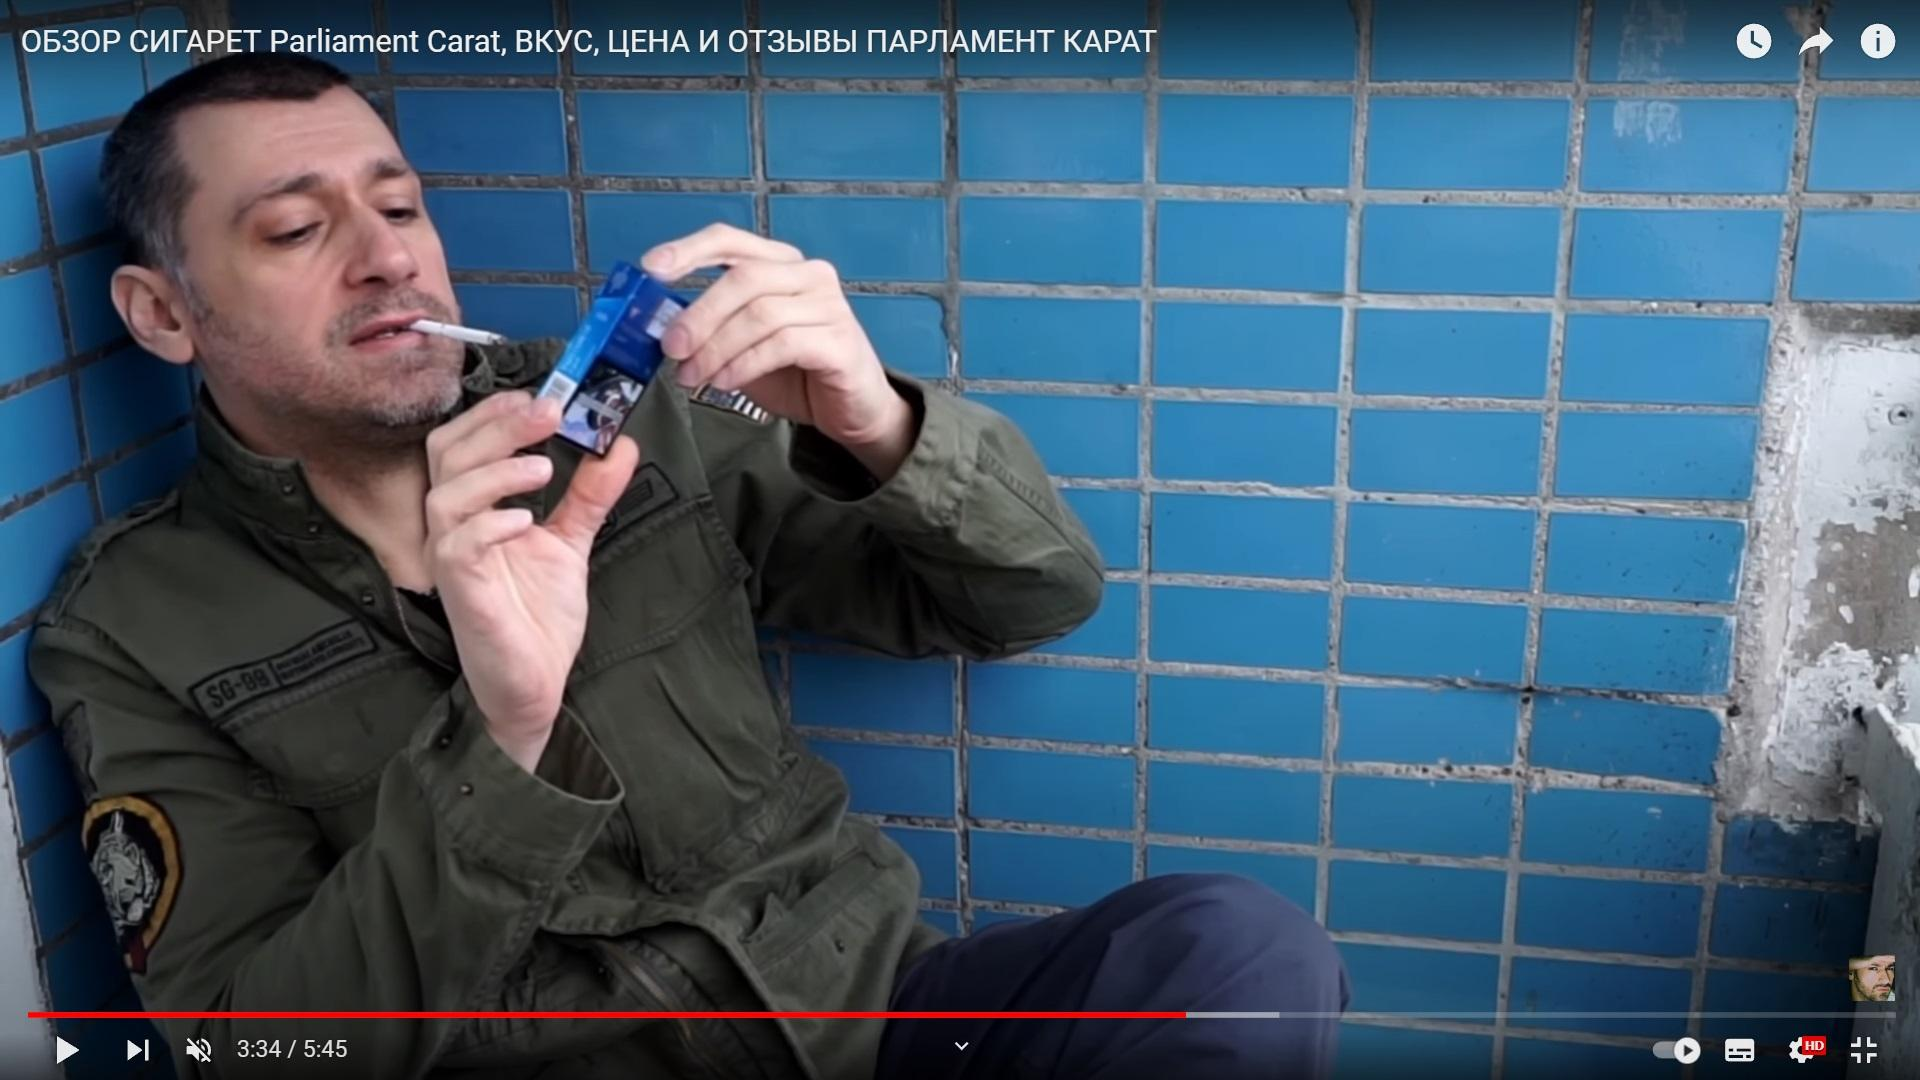cigarette: (405, 319, 508, 345)
